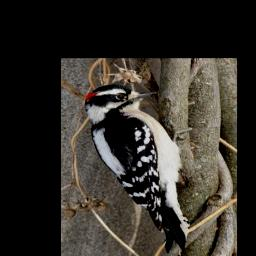Woodpecker: (84, 83, 191, 254)
